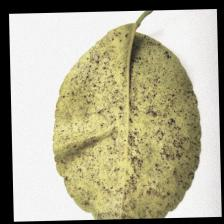canker: (69, 62, 192, 192)
